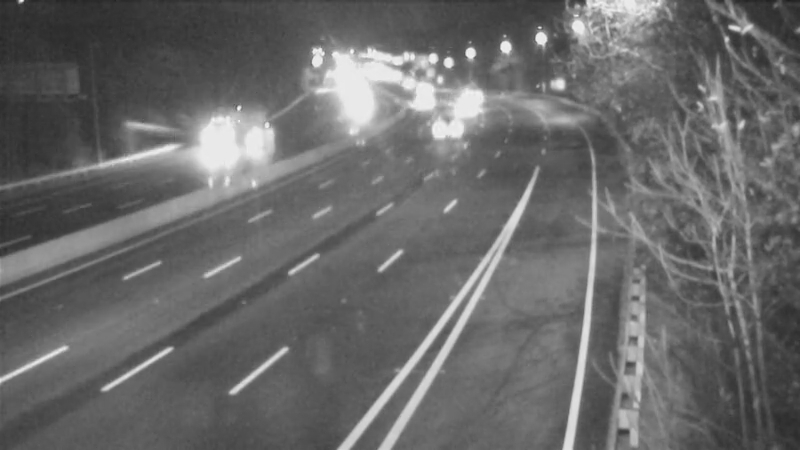vehicle: (448, 68, 498, 118), (395, 74, 445, 124), (439, 90, 489, 140), (422, 107, 472, 157), (196, 120, 246, 170)
